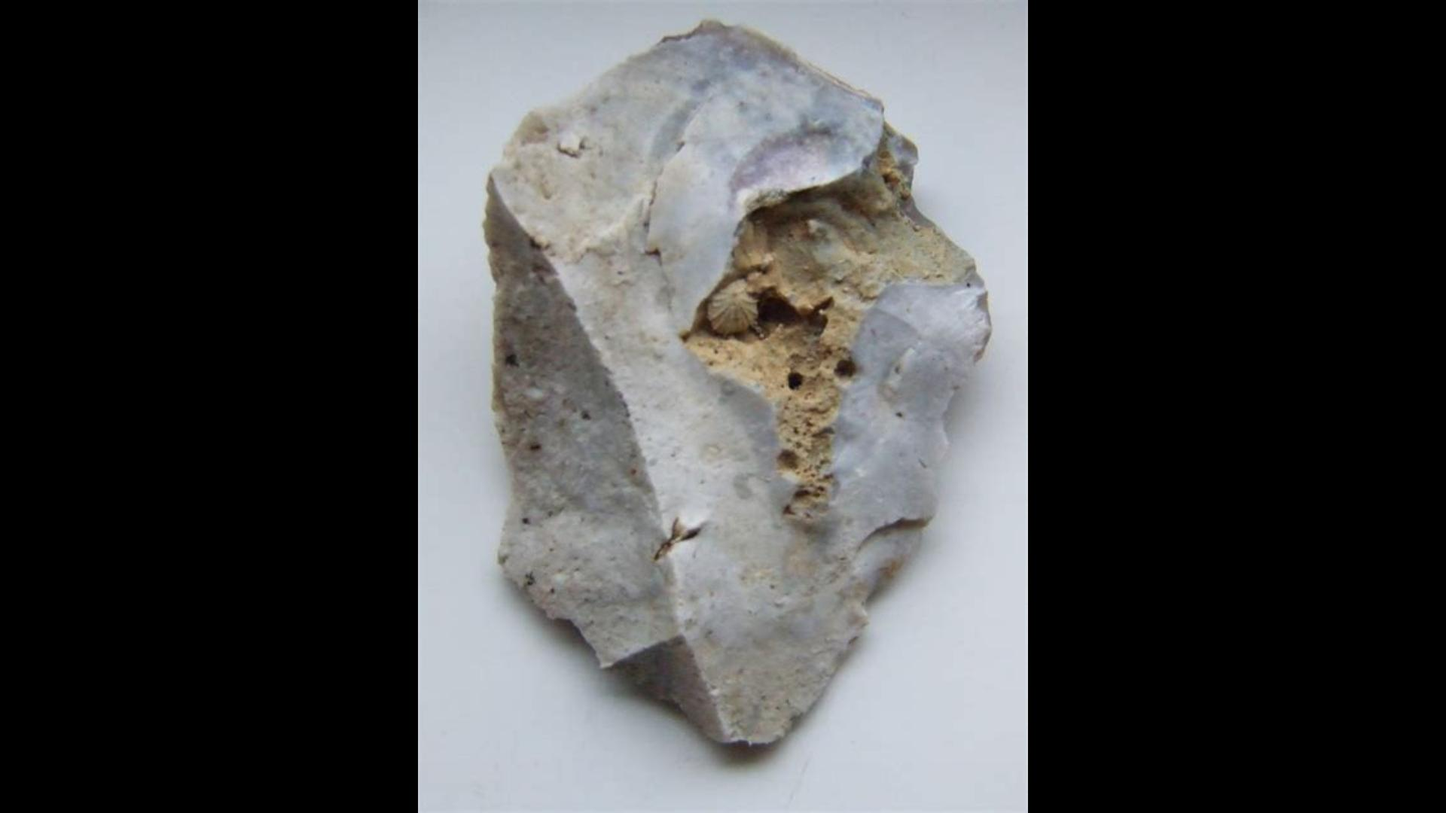rock: (489, 22, 988, 742)
